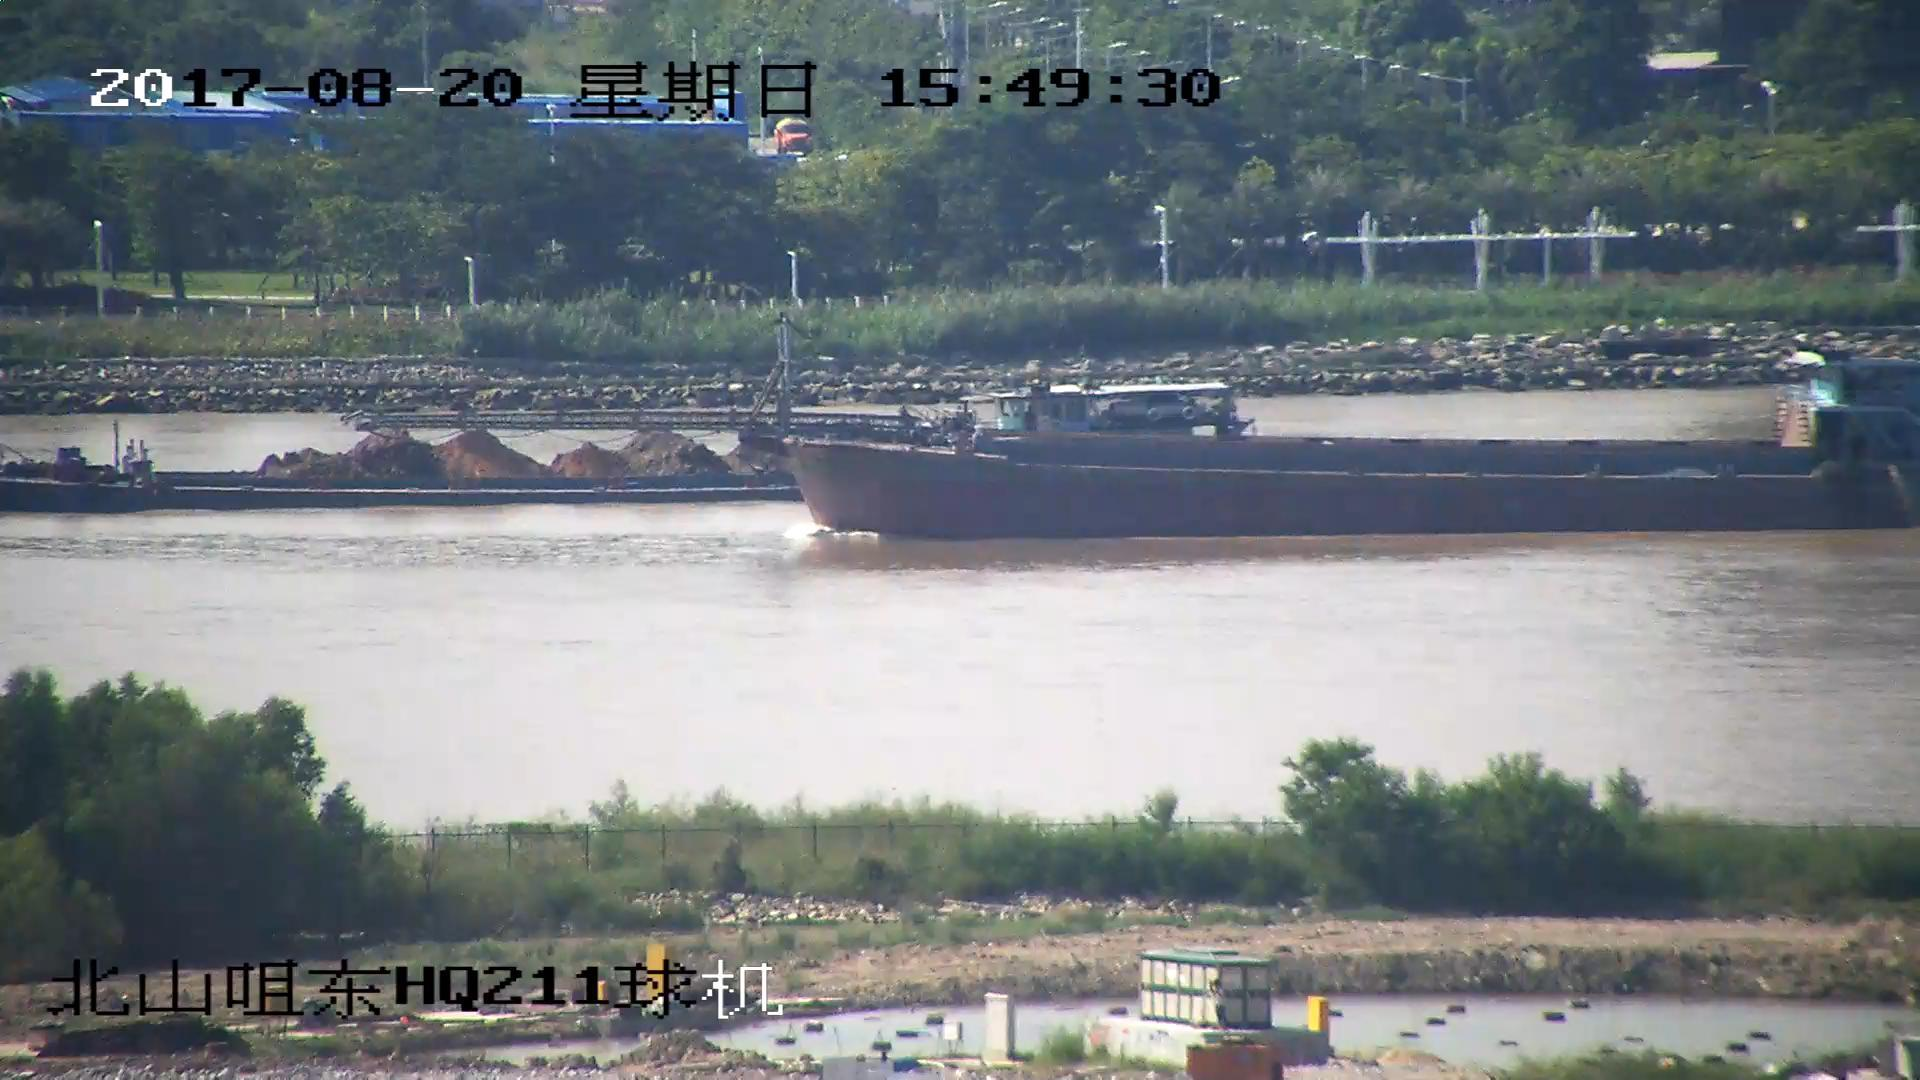Ship: (373, 326, 1920, 535), (3, 371, 1254, 516)
